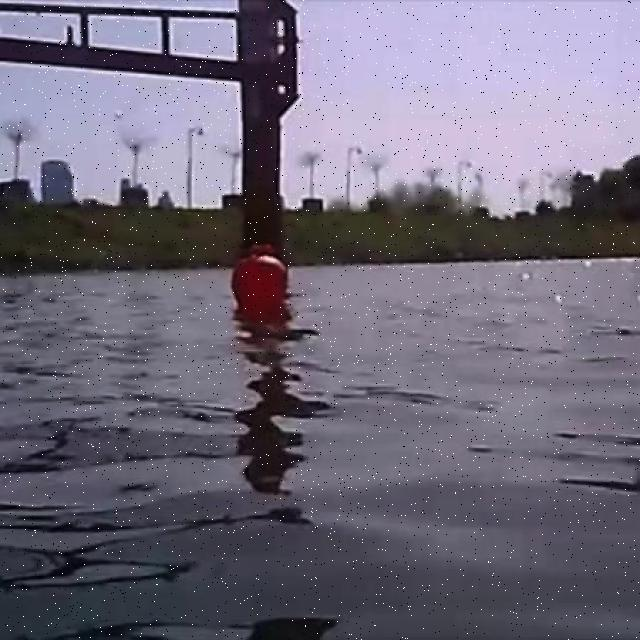buoy: (230, 247, 286, 312)
